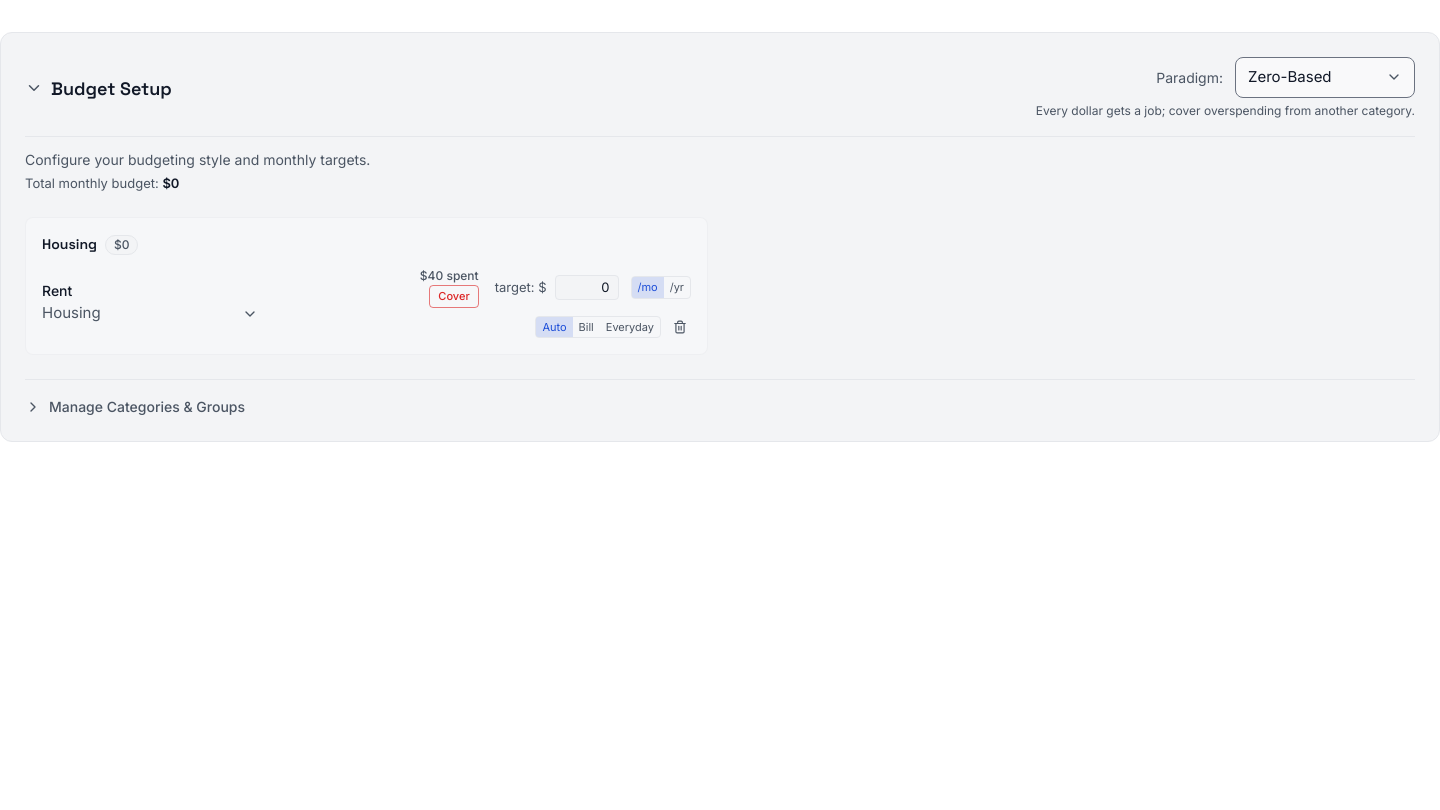
CategoryManagerWidget overspend gating › Zero-Based: shows Cover button for a zero-target category with spending, and opens the dialog
Click the button "Cover": (454, 296) [429,285,479,308]
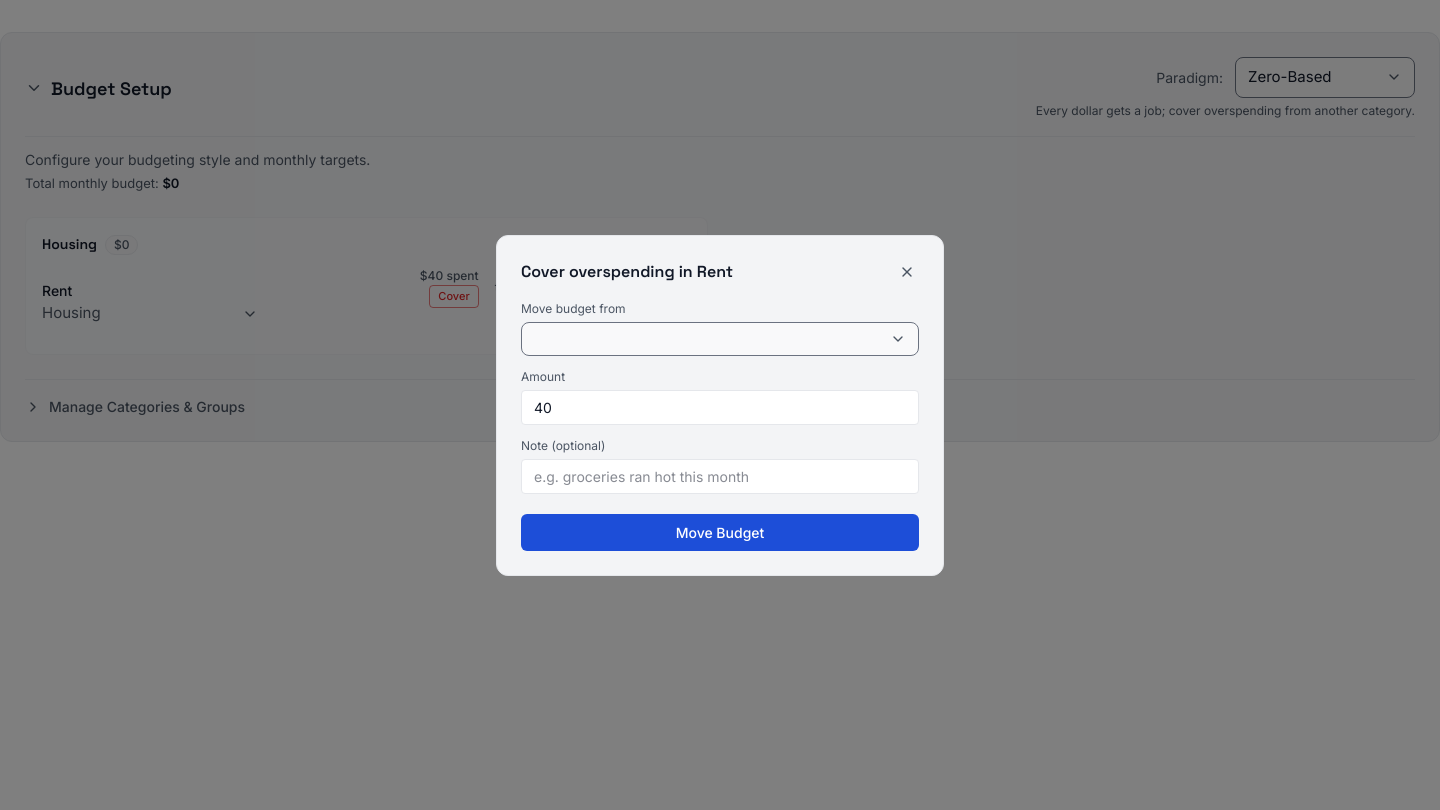
Now the dialog is shown, box [496,234,944,576]
